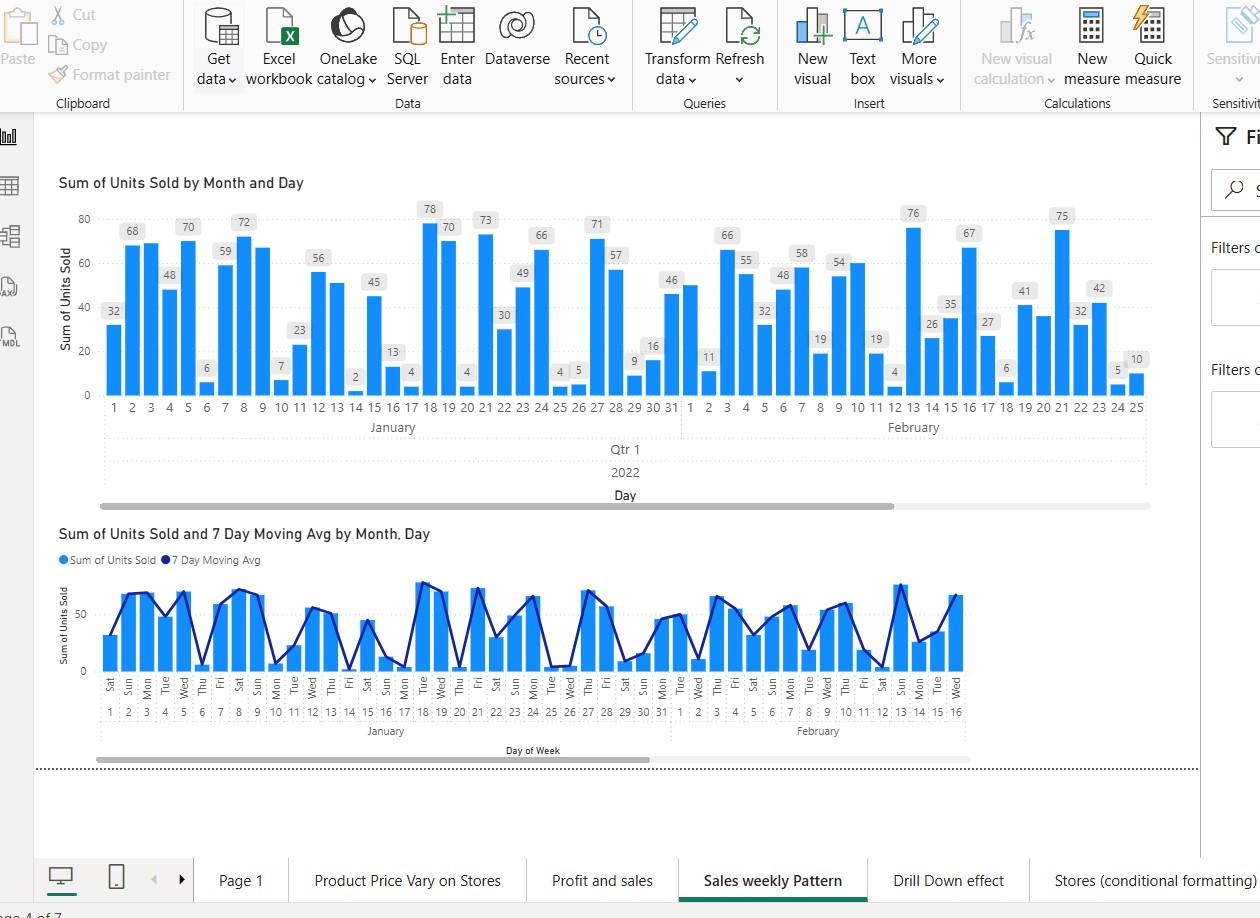

The dashboard page shown, as its layout file describes it:
{"tool":"powerbi","page":{"name":"Sales weekly Pattern ","canvas":[1280,720],"ordinal":2},"visuals":[{"type":"clusteredColumnChart","title":"Sum of Units Sold by Month and Day","fields":{"Y":["Sum(Apocolypse Sales (2).Units Sold)"],"Category":["Apocolypse Sales (2).Date Purchased.Variation.Date Hierarchy.Year","Apocolypse Sales (2).Date Purchased.Variation.Date Hierarchy.Quarter","Apocolypse Sales (2).Date Purchased.Variation.Date Hierarchy.Month","Apocolypse Sales (2).Date Purchased.Variation.Date Hierarchy.Day"]},"box":[22.4,67.2,1210.1,375],"z":0},{"type":"lineStackedColumnComboChart","title":"Sum of Units Sold and 7 Day Moving Avg by Month, Day","fields":{"Y":["Sum(Apocolypse Sales (2).Units Sold)"],"Category":["Apocolypse Sales (2).Date Purchased.Variation.Date Hierarchy.Month","Apocolypse Sales (2).Date Purchased.Variation.Date Hierarchy.Day","Apocolypse Sales (2).Day of Week"],"Y2":["Apocolypse Sales (2).7 Day Moving Avg"]},"box":[22.4,452.7,1011.4,267.4],"z":1000}]}

Visuals, with their boxes on the page's 1280x720 design canvas (x1, y1, x2, y2). These are canvas units, not pixel positions in the 1260x918 screenshot, which may show the page scaled, cropped or inside an application window:
"Sum of Units Sold by Month and Day" clusteredColumnChart: x1=22 y1=67 x2=1232 y2=442
"Sum of Units Sold and 7 Day Moving Avg by Month, Day" lineStackedColumnComboChart: x1=22 y1=453 x2=1034 y2=720
